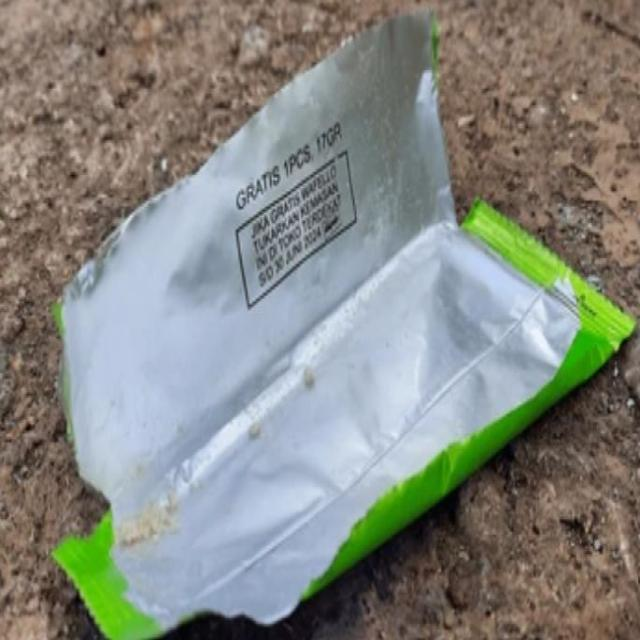electronic: (49, 6, 636, 638)
